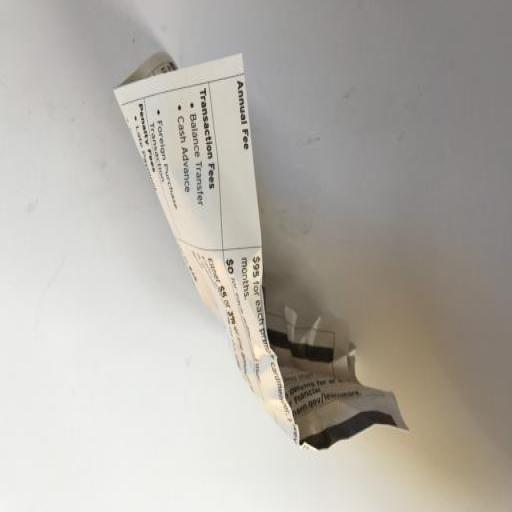paper: (113, 50, 410, 454)
